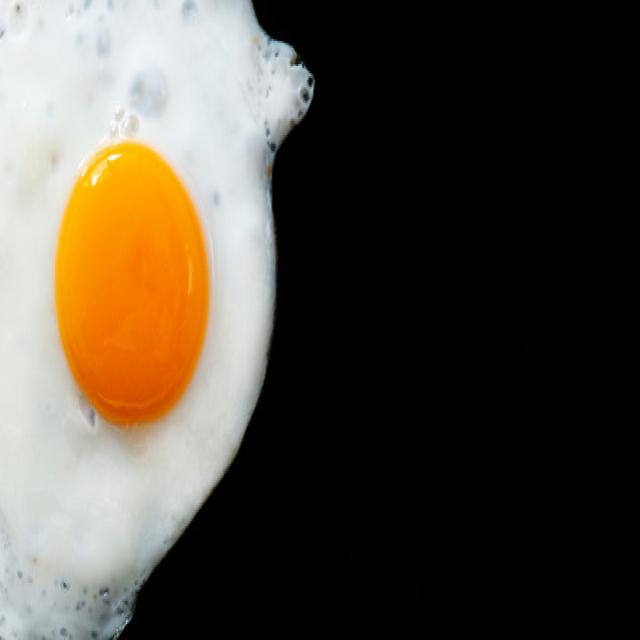Egg: (0, 2, 314, 636)
